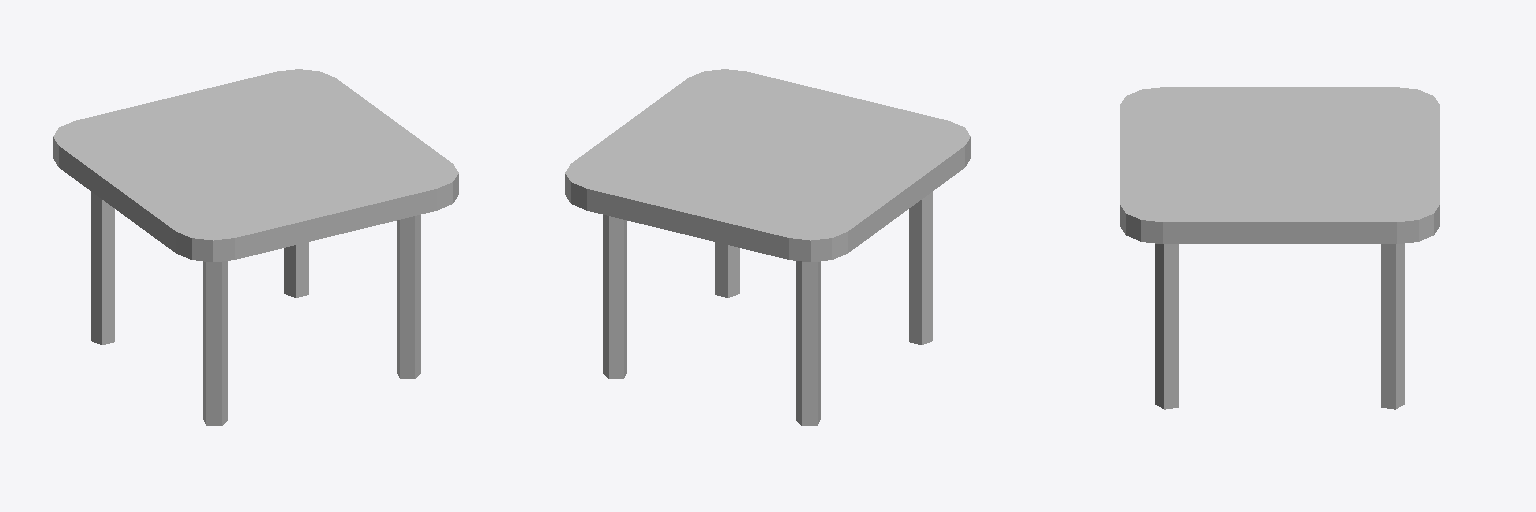
The model's file is table.obj.
3 renders of one model, left to right at view 1: azimuth 30°, elevation 25°; view 2: azimuth 150°, elevation 25°; view 3: azimuth 270°, elevation 25°, orthographic.
Visible parts, largest first — view 1: Cube_Cube.001; view 2: Cube_Cube.001; view 3: Cube_Cube.001.
Boxes of the visible parts, x1=… form: Cube_Cube.001: x1=53, y1=69, x2=458, y2=425; Cube_Cube.001: x1=565, y1=69, x2=970, y2=425; Cube_Cube.001: x1=1120, y1=87, x2=1439, y2=409.
Bounding box in the file's own units: 2.87 × 2 × 2.87.